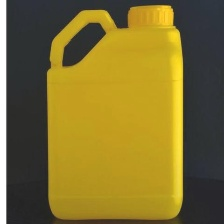insecticide: (45, 2, 186, 224)
